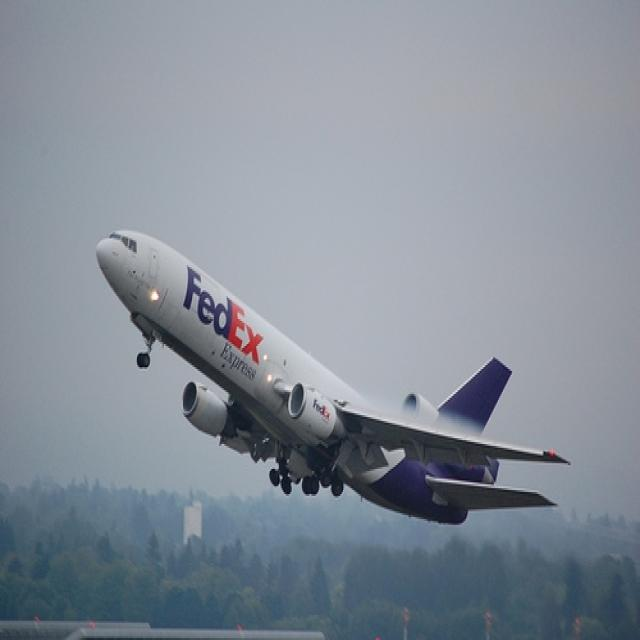fedex: (182, 264, 273, 370)
